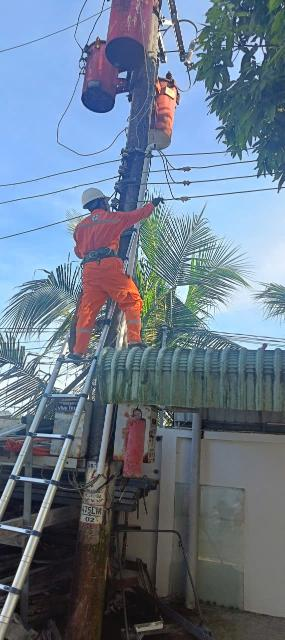gloves: (150, 196, 166, 210)
harness: (75, 249, 122, 262)
helmet: (69, 188, 117, 210)
shoes: (114, 336, 157, 357), (71, 334, 87, 366)
